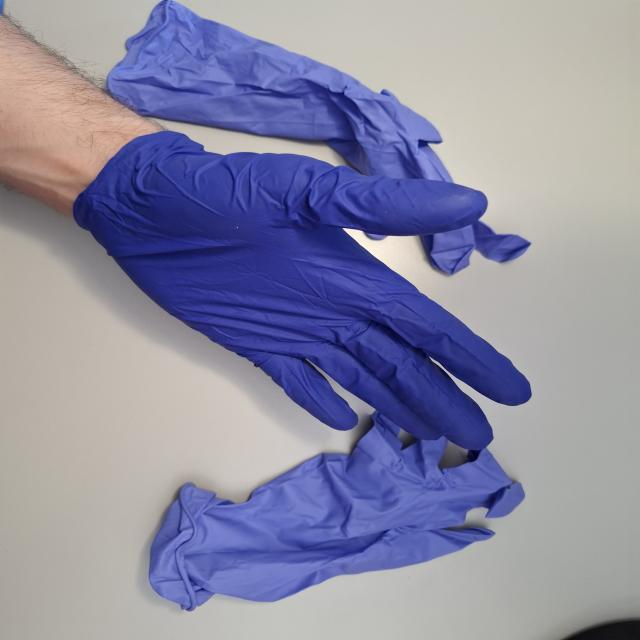glove_on: (71, 123, 536, 456)
